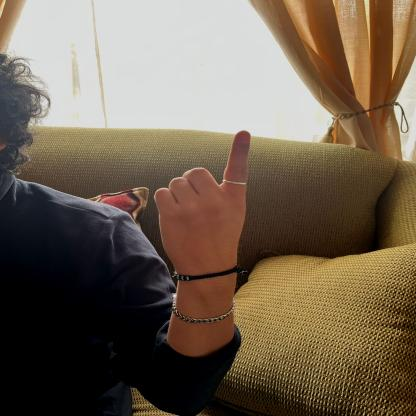T: (152, 126, 264, 278)
